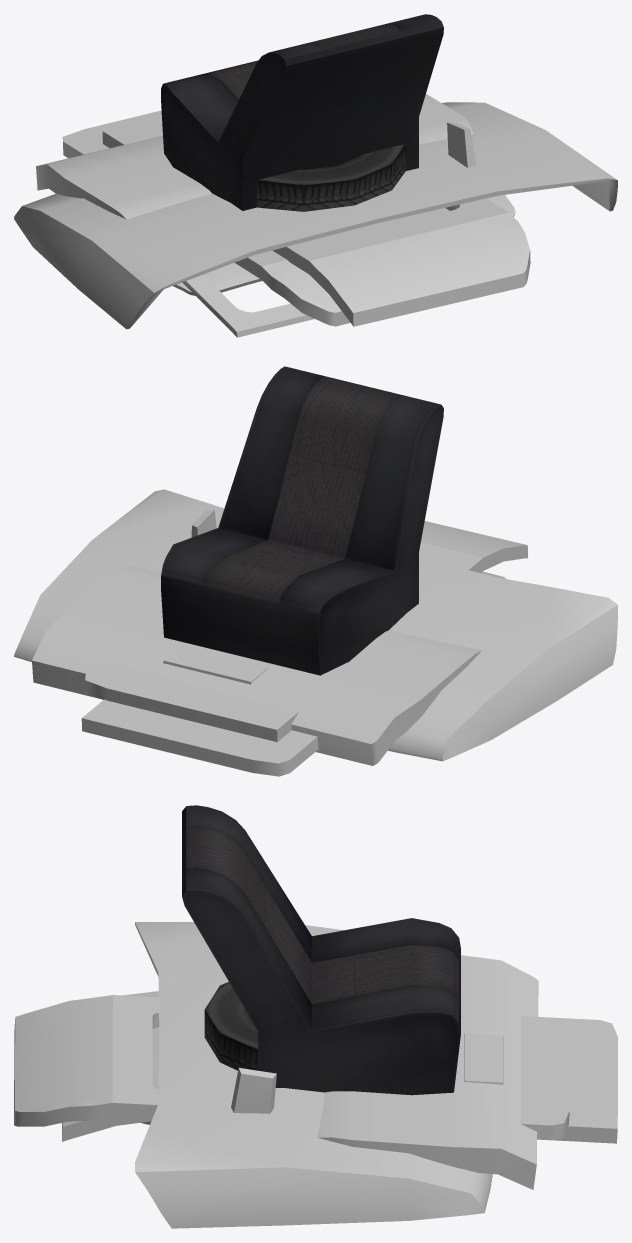
The model's file is Vehicles_fiorino_models.fbx.
3 renders of one model, top to bottom at view 1: azimuth 30°, elevation 25°; view 2: azimuth 150°, elevation 25°; view 3: azimuth 270°, elevation 25°, orthographic. The views are drawn at different scales.
Visible parts, largest first — view 1: Hood_mesh, SeatFrontLeft_mesh, Trunk_mesh, DoorFrontLeft_mesh, Wheel_mesh, FrontWindshield_mesh; view 2: SeatFrontLeft_mesh, Hood_mesh, DoorFrontLeft_mesh, Trunk_mesh; view 3: SeatFrontLeft_mesh, Hood_mesh, Trunk_mesh, DoorFrontLeft_mesh, Wheel_mesh.
Boxes of the visible parts, x1,y1,x2,y2 form: Hood_mesh: (14, 102, 617, 329); SeatFrontLeft_mesh: (161, 14, 443, 210); Trunk_mesh: (62, 110, 530, 326); DoorFrontLeft_mesh: (36, 94, 476, 337); Wheel_mesh: (215, 144, 405, 211); FrontWindshield_mesh: (173, 195, 515, 295); SeatFrontLeft_mesh: (161, 366, 443, 675); Hood_mesh: (14, 489, 617, 761); DoorFrontLeft_mesh: (32, 509, 481, 765); Trunk_mesh: (81, 521, 527, 776); SeatFrontLeft_mesh: (182, 805, 460, 1095); Hood_mesh: (135, 922, 492, 1228); Trunk_mesh: (14, 995, 617, 1143); DoorFrontLeft_mesh: (122, 955, 538, 1189); Wheel_mesh: (204, 982, 257, 1070).
Bounding box in the file's own units: 1.48 × 0.6552 × 1.43.
